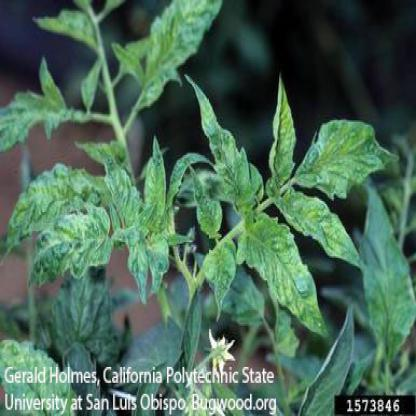tomato leaf mosaic virus: (237, 210, 338, 346), (290, 109, 400, 209), (183, 71, 258, 212), (272, 177, 368, 277), (23, 204, 112, 294), (138, 131, 170, 234), (207, 247, 239, 324)
